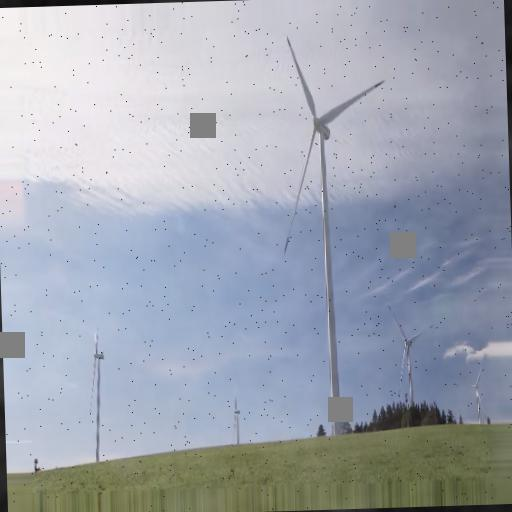wind turbine: (282, 34, 385, 426), (389, 311, 431, 429)
